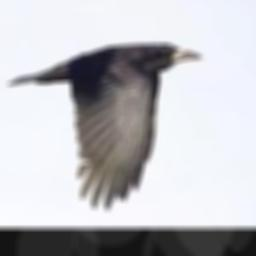Crow: (8, 43, 203, 208)
